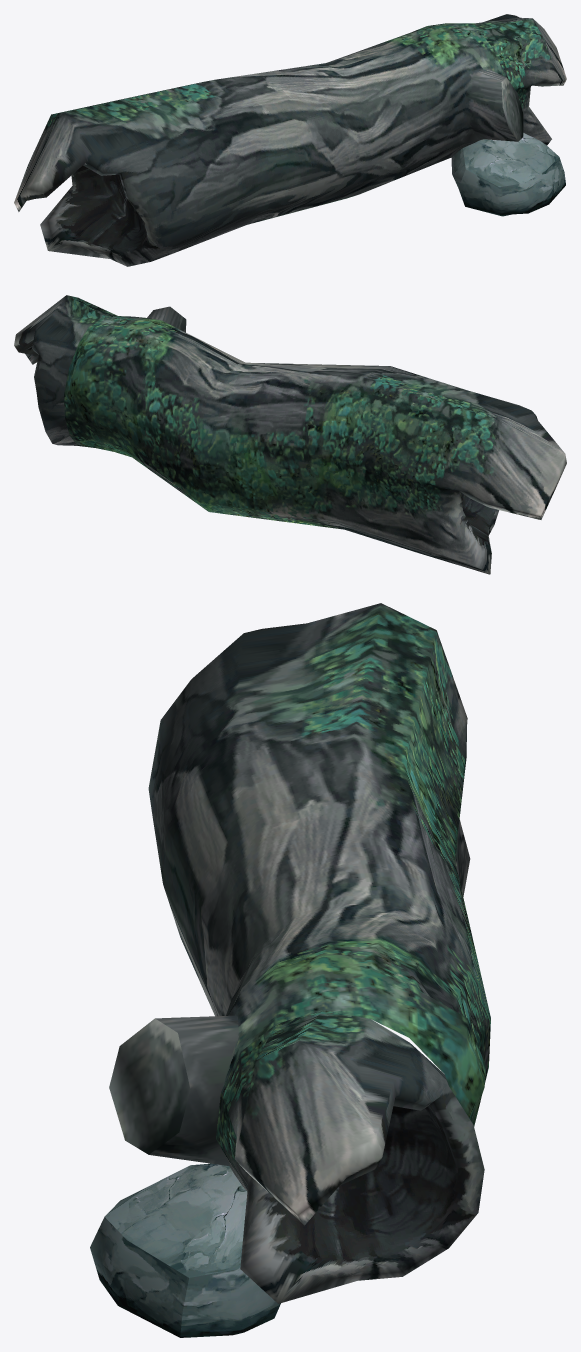
Rendered from dro_env_cover_tree_trunk_coll01.glb.
The picture shows the model from 3 angles, top to bottom: view 1: azimuth 30°, elevation 25°; view 2: azimuth 150°, elevation 25°; view 3: azimuth 270°, elevation 25°; orthographic projection. The views are drawn at different scales.
Visible parts, largest first — view 1: dro_tree_small, dro_junglerock15; view 2: dro_tree_small; view 3: dro_tree_small, dro_junglerock15.
Boxes of the visible parts, bbox=[...] form: dro_tree_small: bbox=[14, 14, 566, 266]; dro_junglerock15: bbox=[451, 133, 565, 216]; dro_tree_small: bbox=[14, 295, 566, 574]; dro_tree_small: bbox=[109, 603, 490, 1303]; dro_junglerock15: bbox=[90, 1163, 280, 1337].
Size of the model in its own units: 0.5568 by 0.1596 by 0.1816.
Materials: 2 (2 with a texture image).
